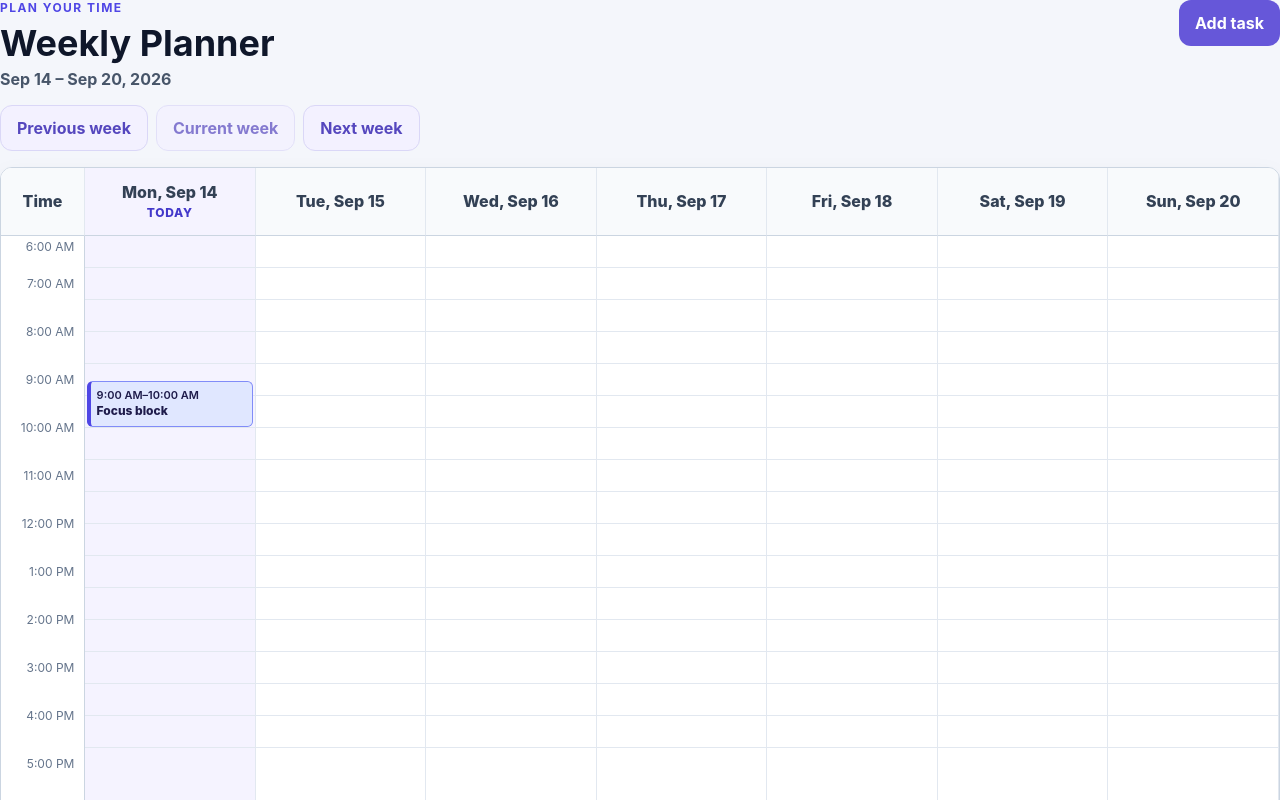
Test case: WeeklyPlannerPage › toggles task completion
This screenshot has width=1280, height=800.
Click the button with aria-label "Edit Focus block" at (170, 404), box [87,381,253,427]
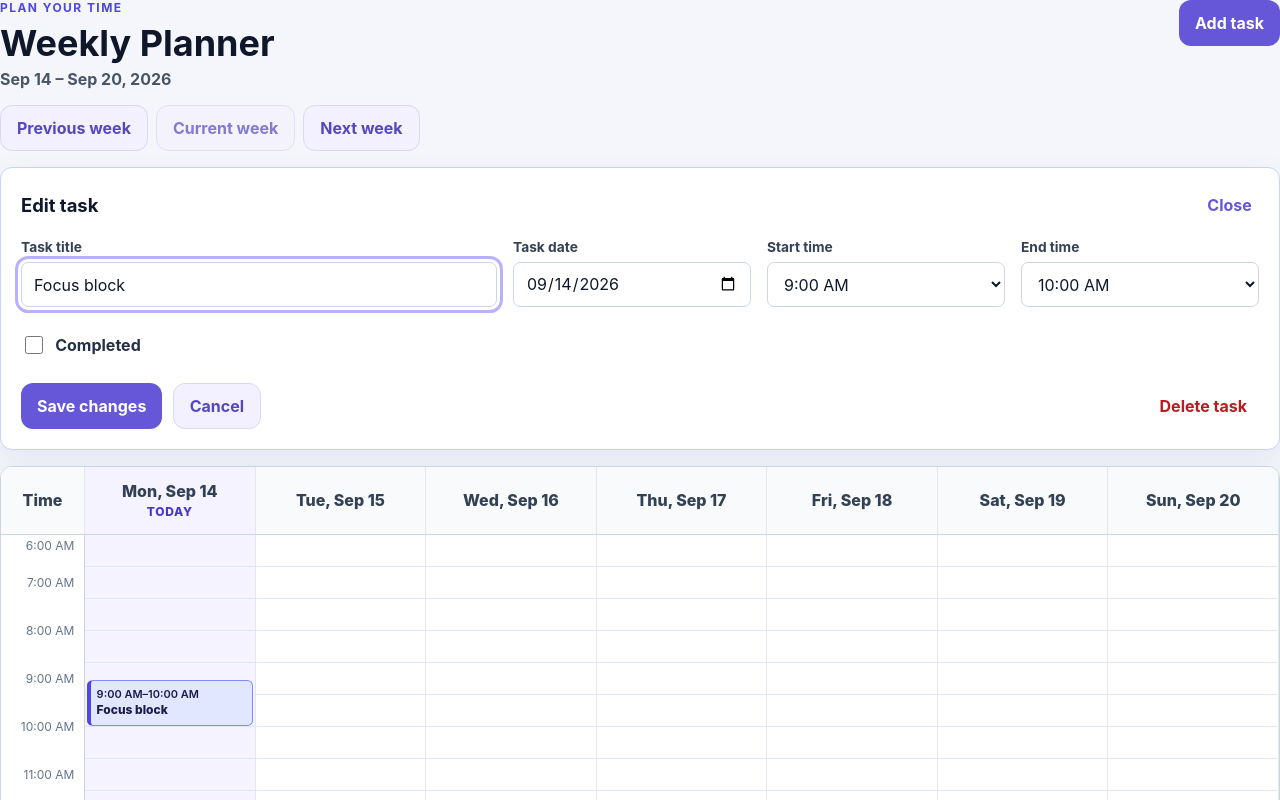
Click the checkbox labelled "Completed" at (34, 345), box [25,336,43,354]
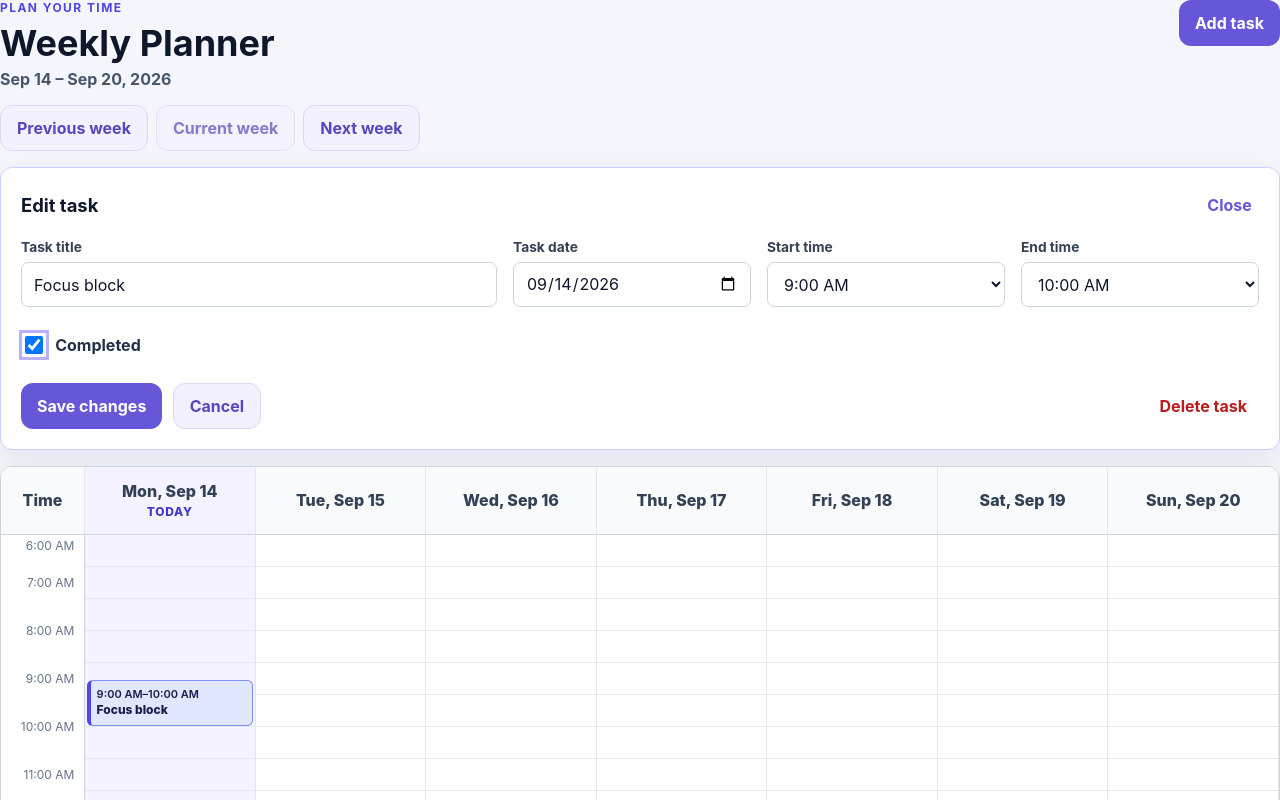
Click the button "Save changes" at (92, 406), box [21,383,162,429]
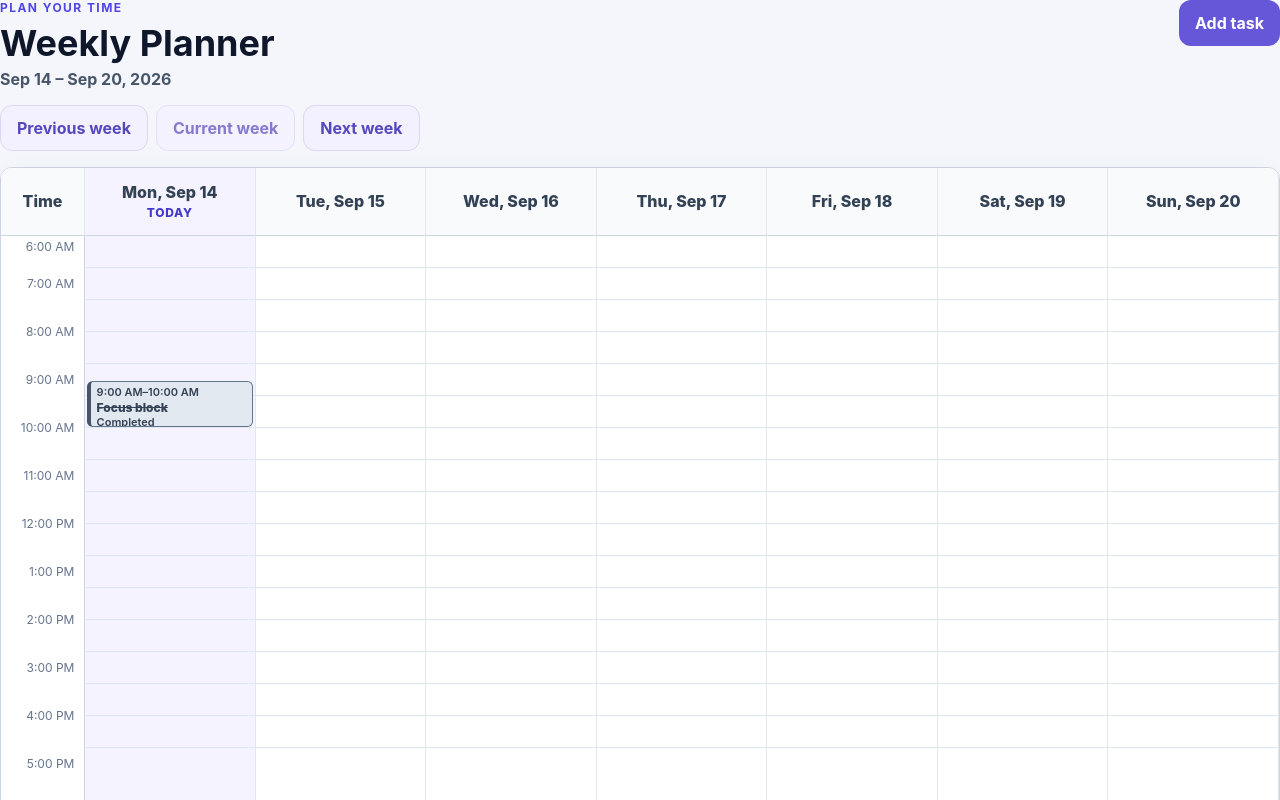
expect the button "9:00 AM–10:00 AM Focus block Completed" is shown: met, box [87,381,253,427]
